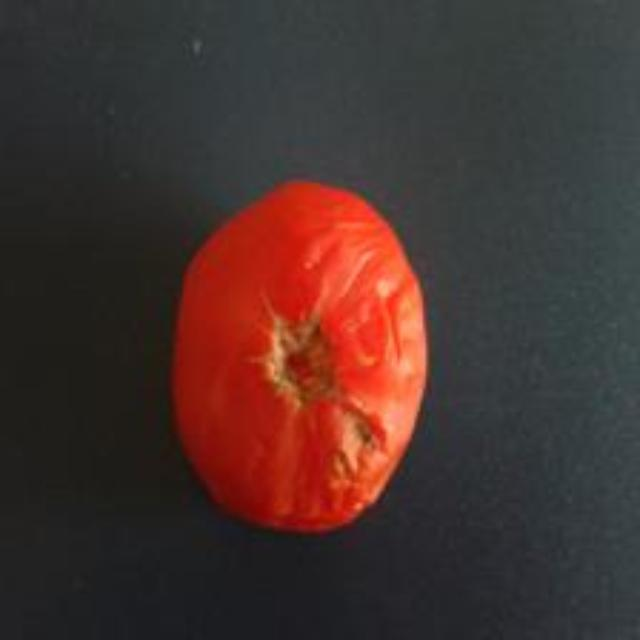defect: (169, 182, 435, 538)
